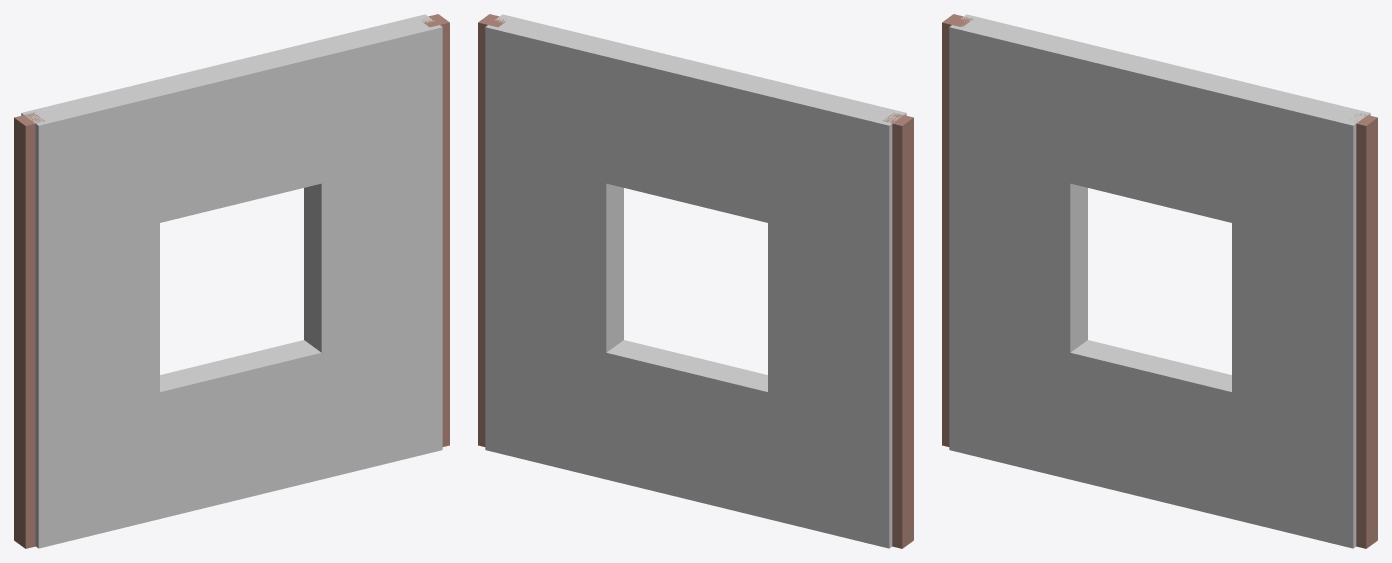
File: wall_brick_window.glb
3 views of the same model, side by side, from view 1: azimuth 30°, elevation 25°; view 2: azimuth 150°, elevation 25°; view 3: azimuth 330°, elevation 25° (orthographic).
Parts seen in each view (by area): view 1: wall_brick_window; view 2: wall_brick_window; view 3: wall_brick_window.
Part boxes in pixels (<box>): wall_brick_window: <box>14,14,449,548</box>; wall_brick_window: <box>478,14,913,548</box>; wall_brick_window: <box>942,14,1377,548</box>.
Bounding box in the file's own units: 2.1 × 2 × 0.15.
